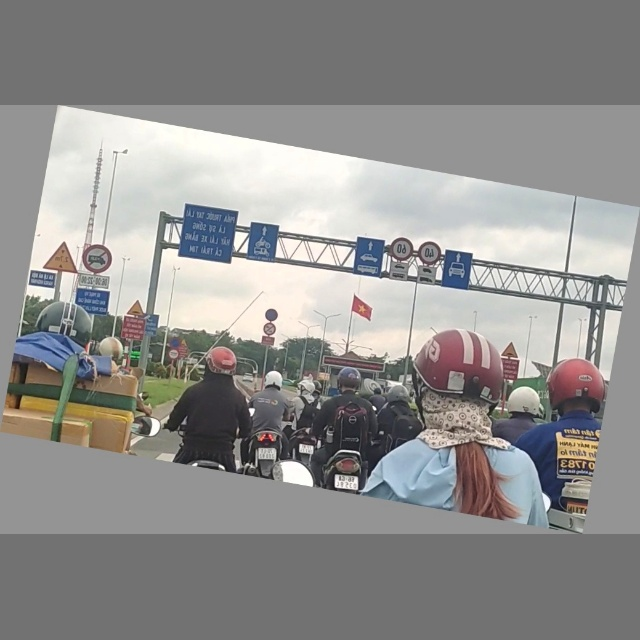Camera: (143, 313, 160, 336)
P.106a*Xe tai: (80, 243, 114, 276)
P.111: (262, 322, 277, 337)
P.127*40: (416, 240, 443, 266)
P.127*60: (388, 237, 415, 263)
P.129: (167, 349, 180, 360)
P.130: (264, 308, 279, 324)
P.131a: (168, 337, 182, 350)
W.221b: (501, 340, 521, 360), (126, 299, 147, 318), (180, 339, 189, 348)
W.239b*: (41, 239, 82, 276)
